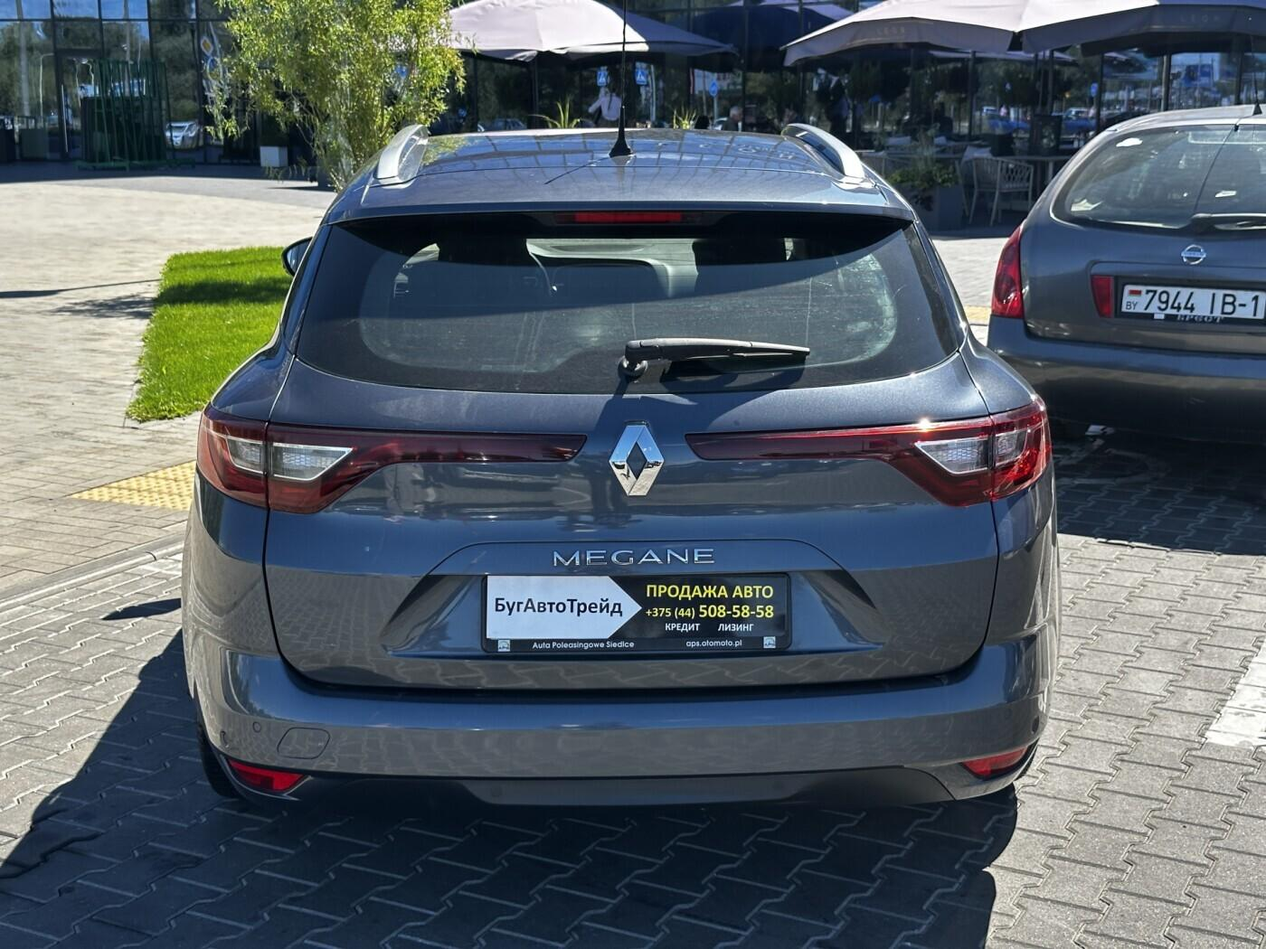Megane_2016-2020: (173, 111, 1062, 856)
